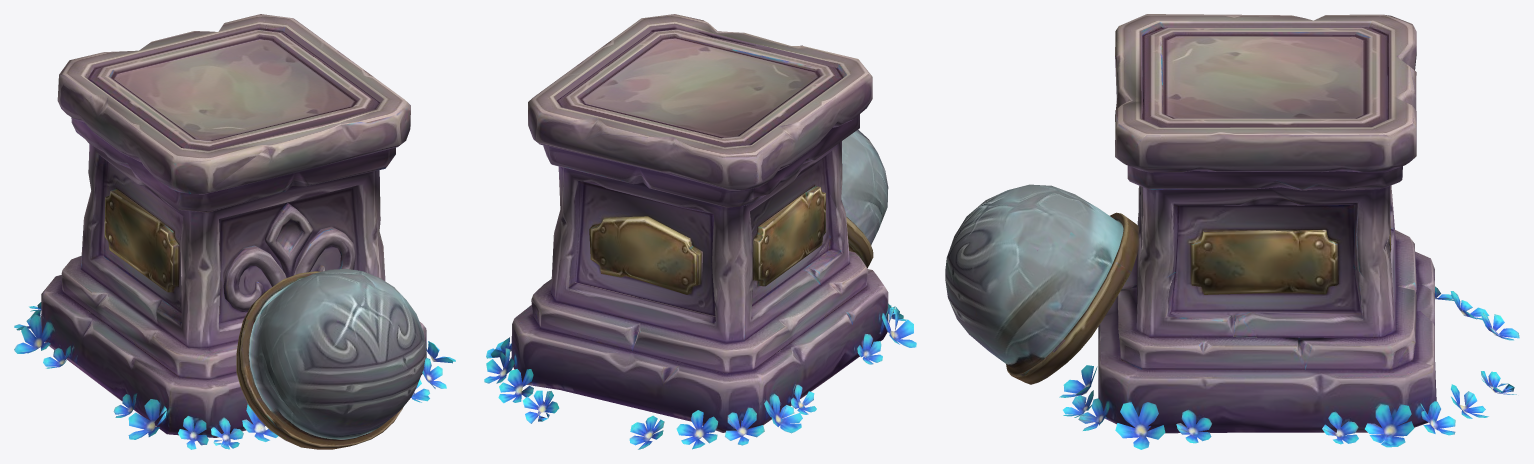
The model's file is p_plinth.glb.
The picture shows the model from 3 angles, left to right: view 1: azimuth 30°, elevation 25°; view 2: azimuth 150°, elevation 25°; view 3: azimuth 270°, elevation 25°; orthographic projection. The views are drawn at different scales.
Visible parts, largest first — view 1: Mesh_0; view 2: Mesh_0; view 3: Mesh_0.
Boxes of the visible parts, <box> form: Mesh_0: <box>14,14,455,449</box>; Mesh_0: <box>484,14,916,449</box>; Mesh_0: <box>945,14,1519,449</box>.
Size of the model in its own units: 0.7034 by 0.5695 by 1.
1 material, 1 textured.
